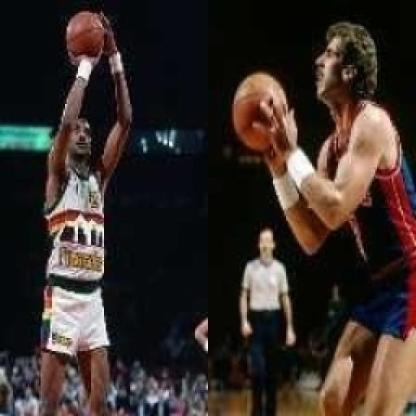basketball: (230, 72, 284, 146), (68, 12, 102, 58)
